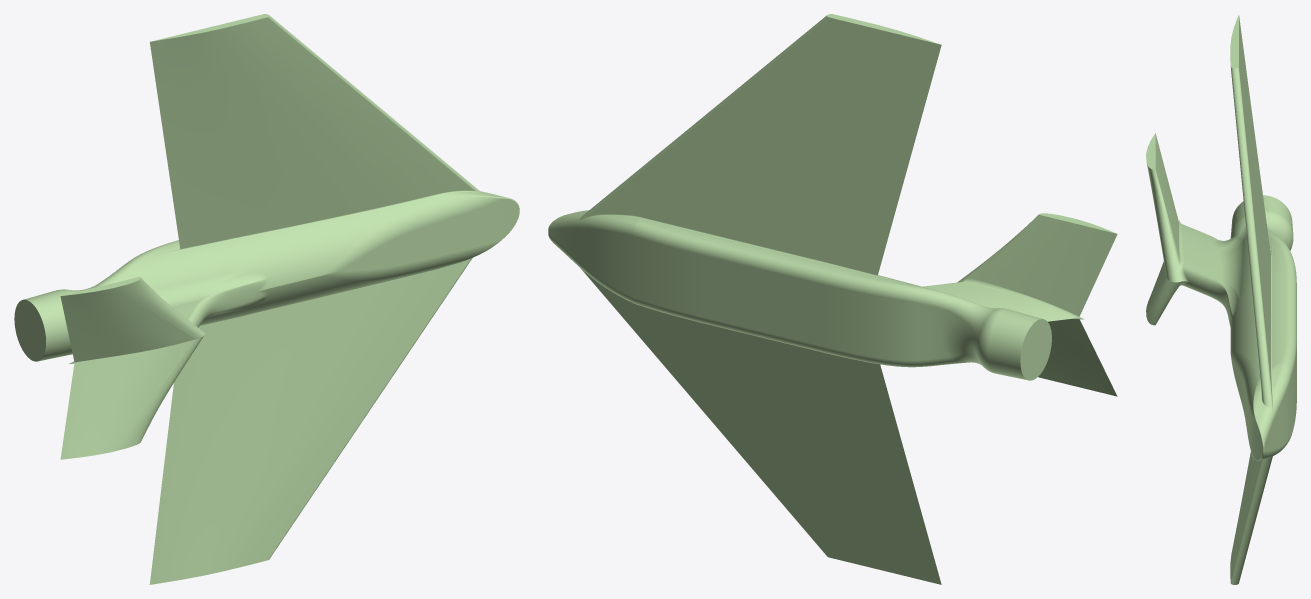
The model's file is flight.gltf.
3 views of the same model, side by side, from view 1: azimuth 30°, elevation 25°; view 2: azimuth 150°, elevation 25°; view 3: azimuth 270°, elevation 25° (orthographic). The views are drawn at different scales.
Parts seen in each view (by area): view 1: flight; view 2: flight; view 3: flight.
Part boxes in pixels (x1,y1,x2,y2): flight: (14,14,519,584); flight: (548,14,1117,584); flight: (1146,14,1296,584).
Bounding box in the file's own units: 0.2605 × 0.2622 × 0.0694.
